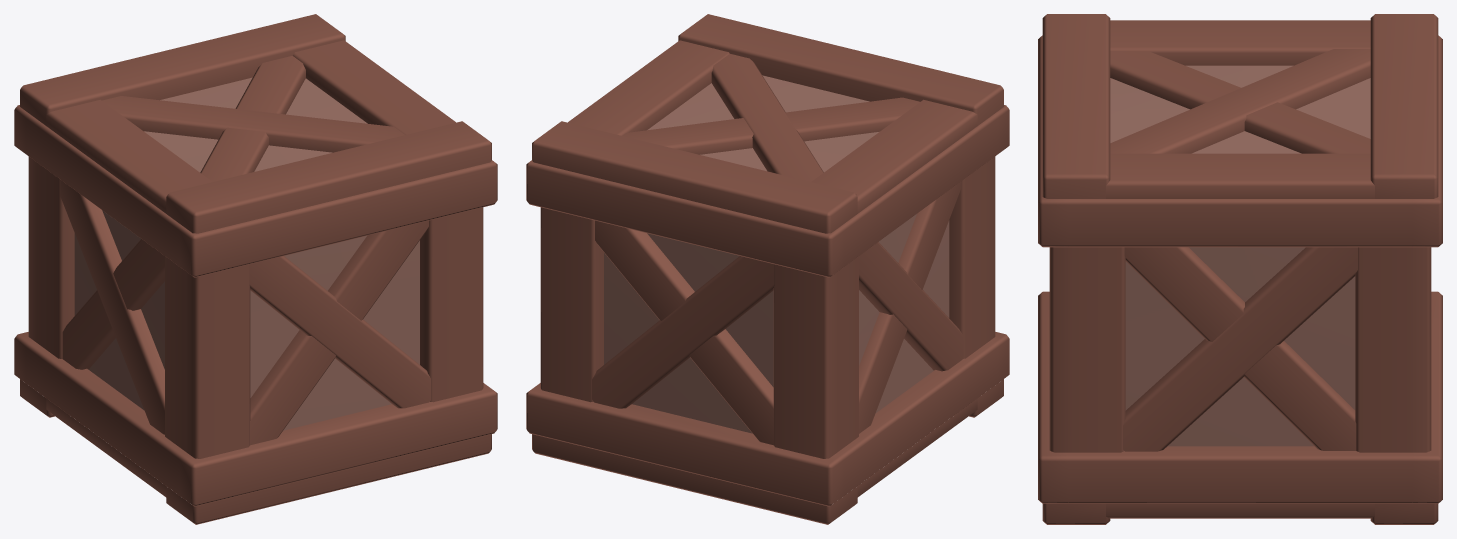
Rendered from Farm_8_Box_1.glb.
The picture shows the model from 3 angles, left to right: view 1: azimuth 30°, elevation 25°; view 2: azimuth 150°, elevation 25°; view 3: azimuth 270°, elevation 25°; orthographic projection. The views are drawn at different scales.
Parts seen in each view (by area): view 1: Farm_8_Box_1; view 2: Farm_8_Box_1; view 3: Farm_8_Box_1.
Part boxes in pixels (x1,y1,x2,y2): Farm_8_Box_1: (14, 14, 497, 524); Farm_8_Box_1: (526, 14, 1009, 524); Farm_8_Box_1: (1038, 14, 1442, 524).
Size of the model in its own units: 0.6864 by 0.6703 by 0.7009.
Materials: 1 (1 with a texture image).
